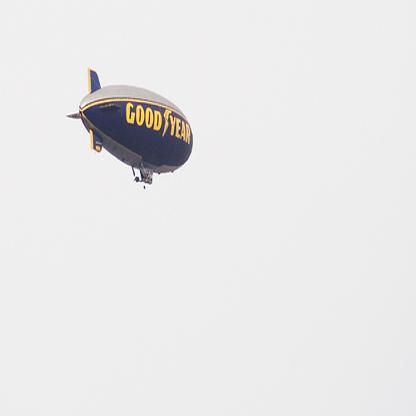Airship: (67, 65, 198, 196)
